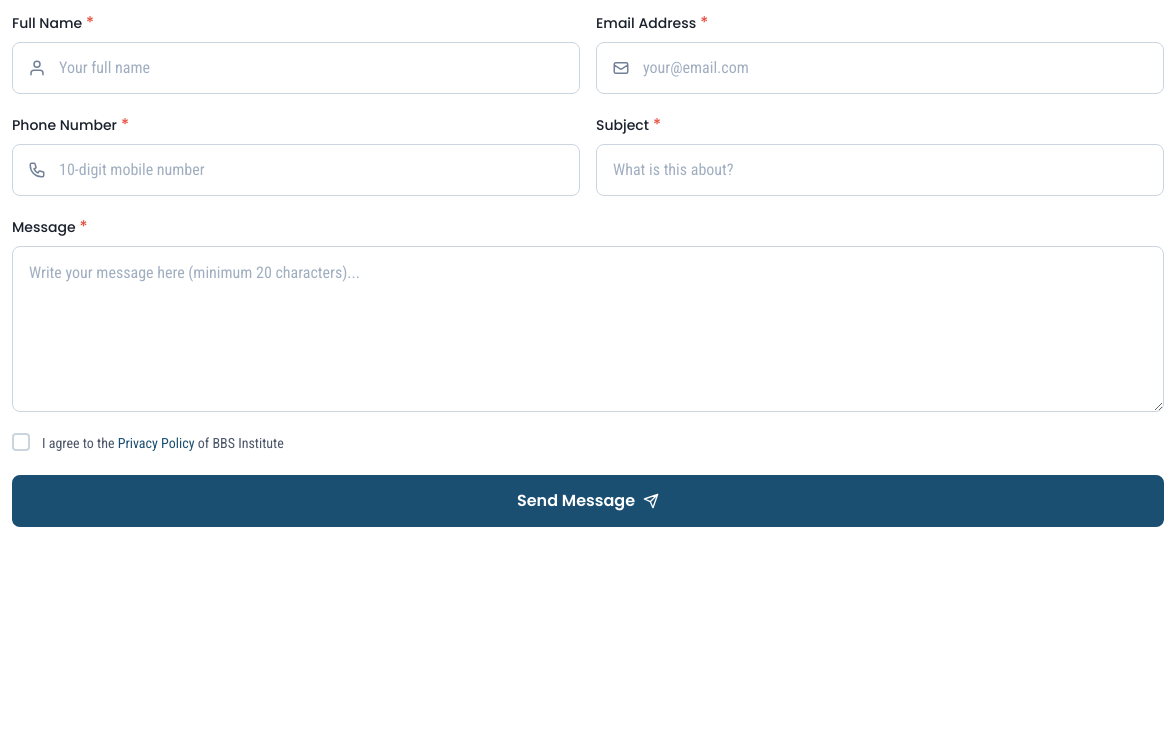
Test: MainContactForm › shows invalid email error for bad email
Type "not-an-email" into the field labelled "Email Address *" at point(880, 68), box [596, 42, 1164, 94]
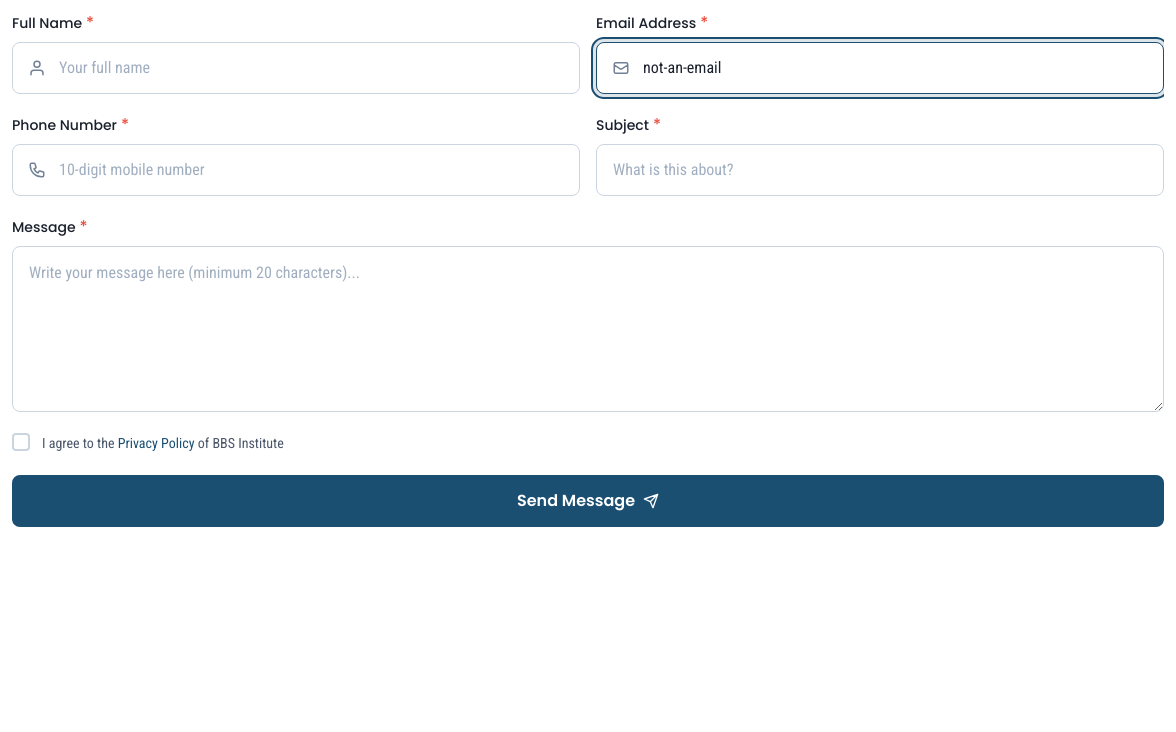
Click the button "Send Message" at point(588, 501), box [12, 475, 1164, 527]
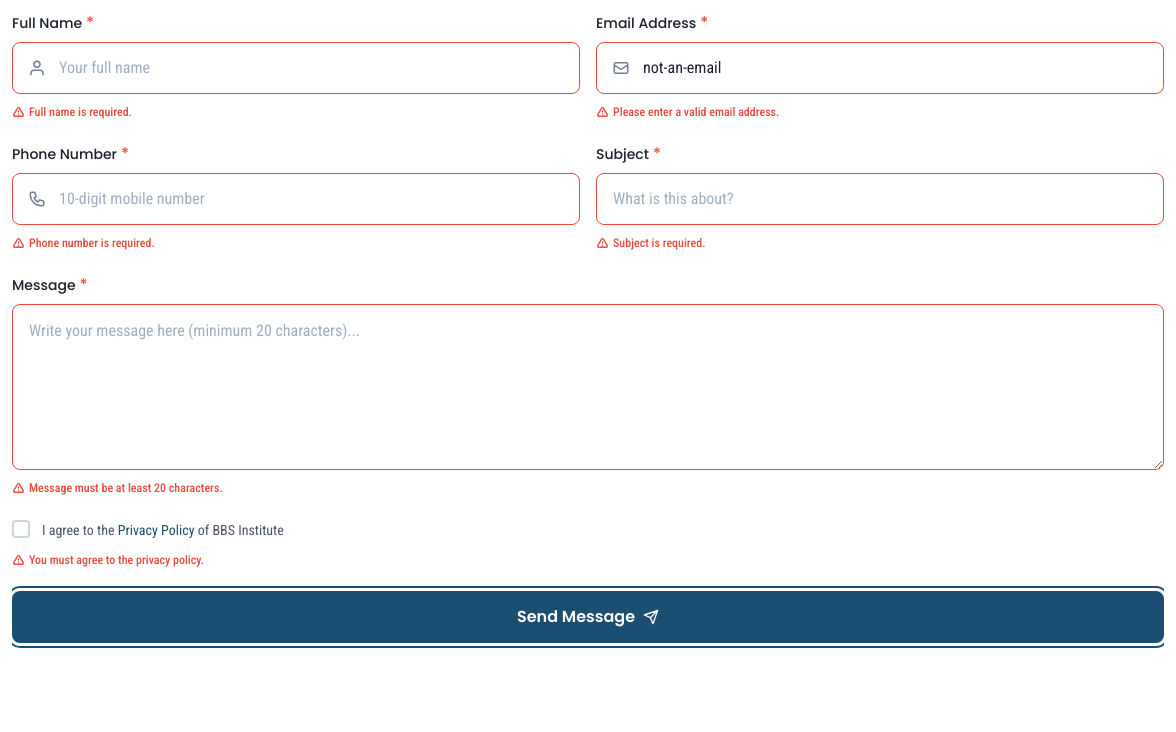
expect the text "Please enter a valid email address." is shown: met, box [596, 105, 779, 119]
